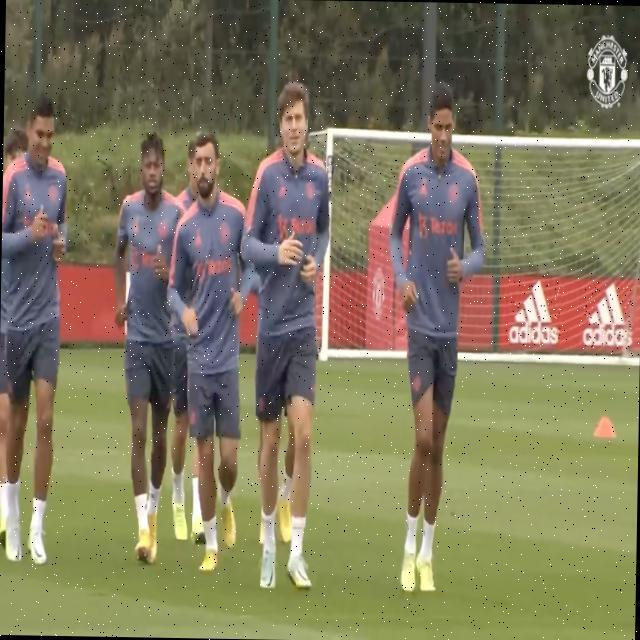Adidas: (508, 279, 561, 348), (583, 282, 633, 350)
